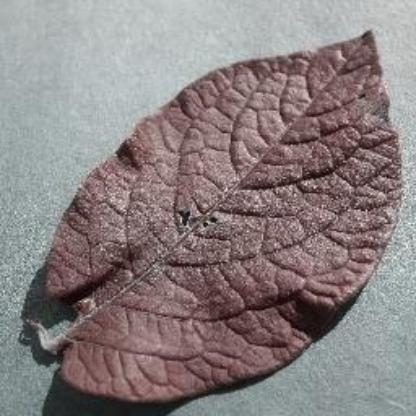Healthy-plant: (32, 28, 400, 397)
